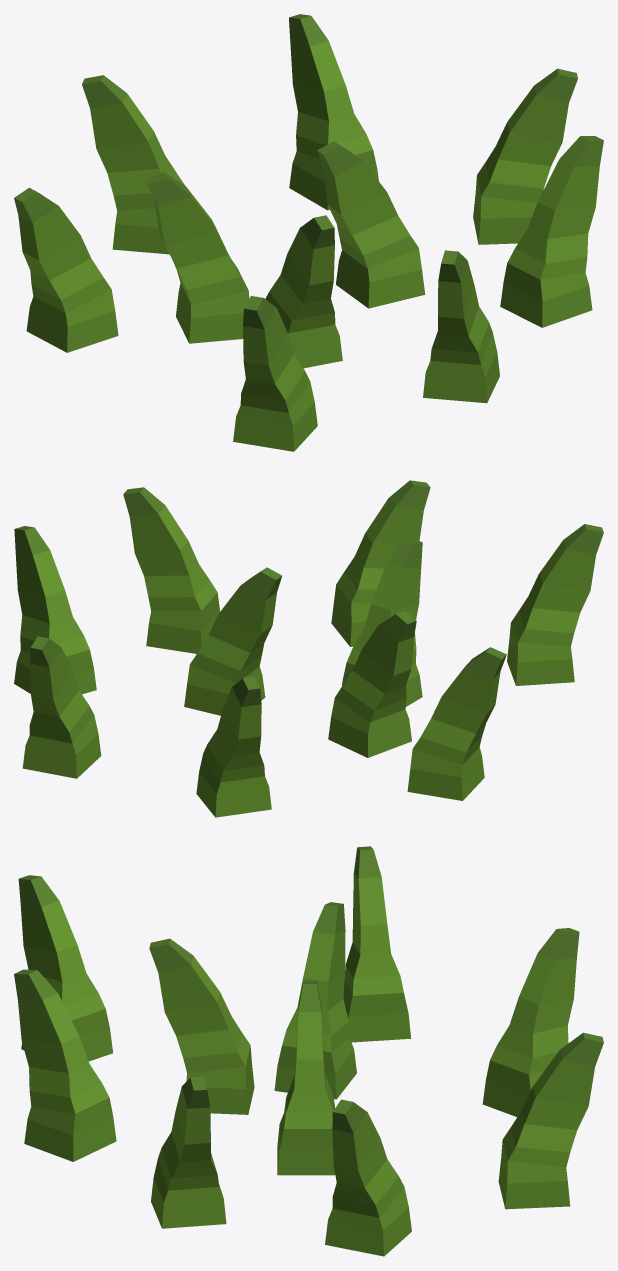
File: shrub.glb
3 renders of one model, top to bottom at view 1: azimuth 30°, elevation 25°; view 2: azimuth 150°, elevation 25°; view 3: azimuth 270°, elevation 25°, orthographic. The views are drawn at different scales.
Parts seen in each view (by area): view 1: Shrub; view 2: Shrub; view 3: Shrub.
Boxes of the visible parts, x1,y1,x2,y2 form: Shrub: (14,14,603,451); Shrub: (14,480,603,817); Shrub: (14,846,603,1256).
Size of the model in its own units: 0.9407 by 0.2561 by 0.875.
Materials: 1 (1 with a texture image).
